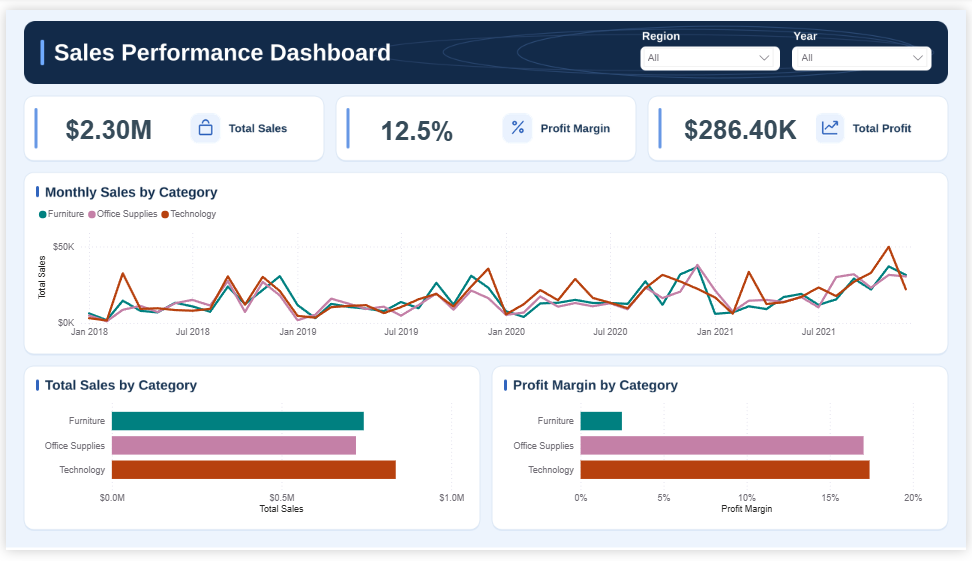

The dashboard page shown, as its layout file describes it:
{"tool":"powerbi","page":{"name":"Page 1","canvas":[1280,720],"ordinal":0},"visuals":[{"type":"lineChart","title":"Total Monthly Sales","fields":{"Category":["Calendar.Month Start"],"Y":["orders_for_power_bi.Total Sales"],"Series":["orders_for_power_bi.category"]},"box":[38.4,253.9,1189.7,192.1],"z":0},{"type":"slicer","fields":{"Values":["Calendar.Year"]},"box":[1044.3,39.8,193.5,38.4],"z":1000},{"type":"cardVisual","fields":{"Data":["orders_for_power_bi.Total Sales"]},"box":[50,128.3,176.7,63.3],"z":2000},{"type":"cardVisual","fields":{"Data":["orders_for_power_bi.Total Profit"]},"box":[875,128.3,205,63.3],"z":3000},{"type":"cardVisual","fields":{"Data":["orders_for_power_bi.Profit Margin"]},"box":[469.3,129,163.3,64.5],"z":4000},{"type":"clusteredBarChart","title":"Total Sales by Category","fields":{"Category":["orders_for_power_bi.category"],"Y":["orders_for_power_bi.Total Sales"]},"box":[38.4,510.5,577.7,167.4],"z":5000},{"type":"clusteredBarChart","title":"Profit Margin by Category","fields":{"Category":["orders_for_power_bi.category"],"Y":["orders_for_power_bi.Profit Margin"]},"box":[664.2,510.5,564,167.4],"z":6000},{"type":"slicer","fields":{"Values":["orders_for_power_bi.region"]},"box":[839.8,39.8,193.5,38.4],"z":7000}]}

Visuals, with their boxes in screenshot pixels (x1, y1, x2, y2), scaled from the page's 1280x720 canvas onto the 972x561 screenshot:
"Total Monthly Sales" lineChart: 29, 198, 933, 348
slicer - Calendar.Year: 793, 31, 940, 61
cardVisual - orders_for_power_bi.Total Sales: 38, 100, 172, 149
cardVisual - orders_for_power_bi.Total Profit: 664, 100, 820, 149
cardVisual - orders_for_power_bi.Profit Margin: 356, 101, 480, 151
"Total Sales by Category" clusteredBarChart: 29, 398, 468, 528
"Profit Margin by Category" clusteredBarChart: 504, 398, 933, 528
slicer - orders_for_power_bi.region: 638, 31, 785, 61
